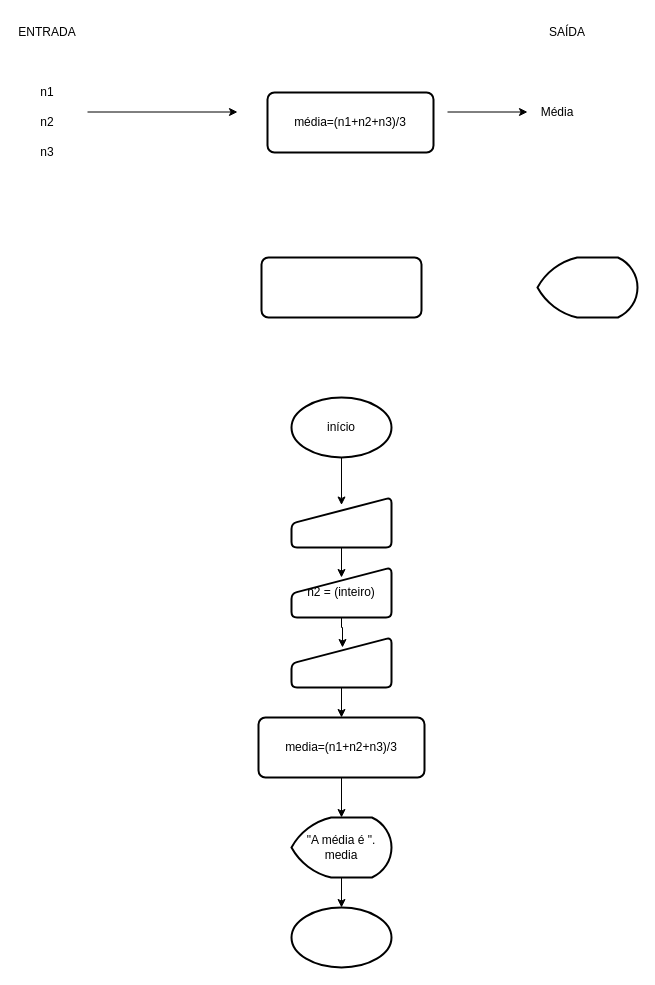
The diagram is 655 pixels wide and 985 high, and some of its shapes have lost their labels. The shapes that lost their labels are listed below. From the top down, each one's centre as x and y in pixels, then its label:
(x=341, y=522): n1 = (inteiro)
(x=341, y=662): n3 = (inteiro)
(x=341, y=937): fim
